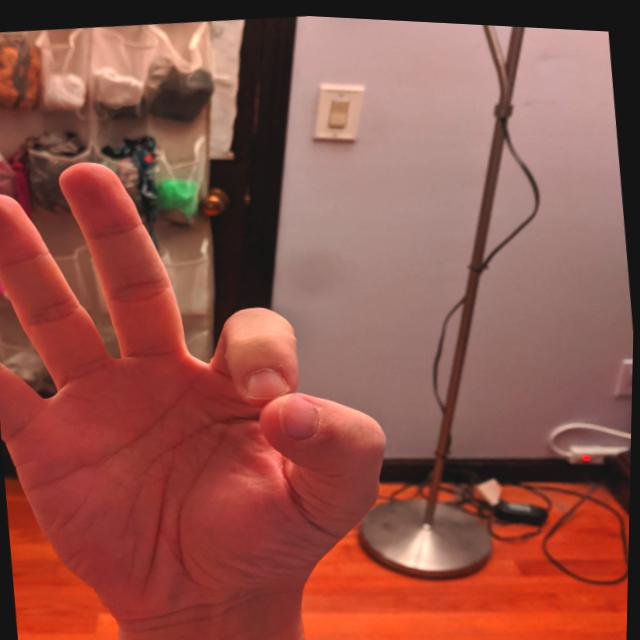F: (0, 120, 422, 639)
